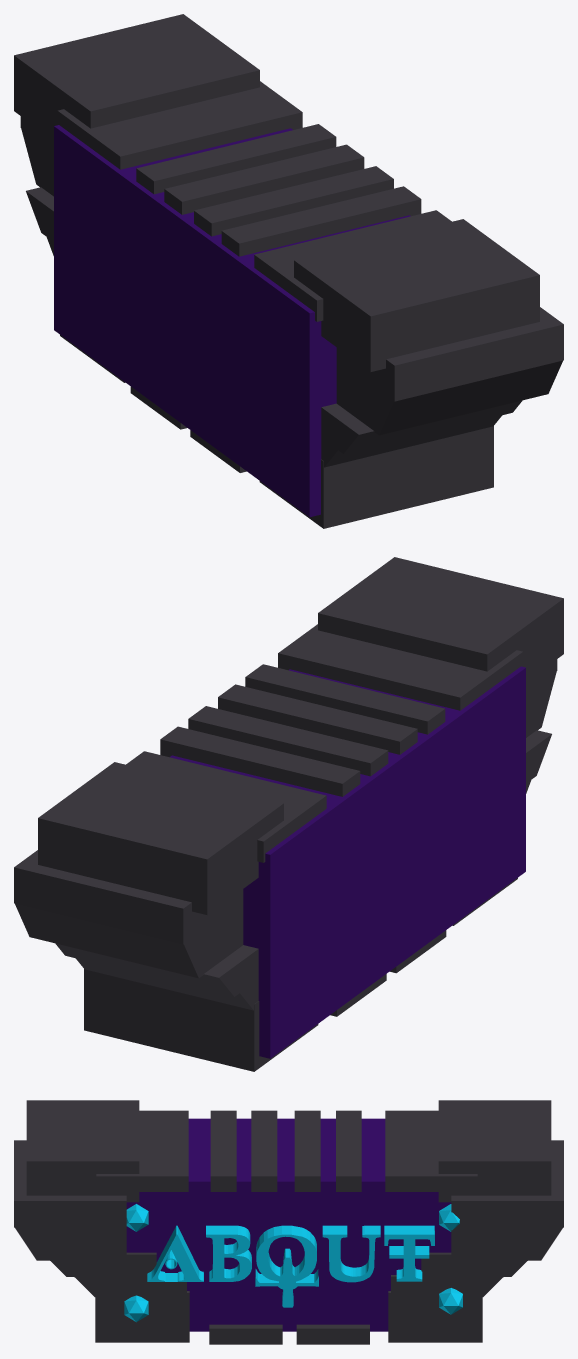
Rendered from About_Button.fbx.
The picture shows the model from 3 angles, top to bottom: view 1: azimuth 30°, elevation 25°; view 2: azimuth 150°, elevation 25°; view 3: azimuth 270°, elevation 25°; orthographic projection. The views are drawn at different scales.
Visible parts, largest first — view 1: Cube, Cube_7, Cube_15, Cube_14, Cube_2, Cube_8, Cube_9, Cube_3, Cube_5, Cube_6, Cube_4, Cube_1 (+4 smaller); view 2: Cube, Cube_15, Cube_7, Cube_20, Cube_1, Cube_16, Cube_17, Cube_6, Cube_4, Cube_5, Cube_3, Cube_2 (+4 smaller); view 3: Cube, Cube_15, Cube_7, Cap_1, Cube_2, Cube_1, Extrude, Cube_8, Cube_20, Cube_14, Cube_16, Cube_9 (+15 smaller).
Boxes of the visible parts, x1=… form: Cube: x1=54, y1=125, x2=410, y2=517; Cube_7: x1=294, y1=219, x2=539, y2=371; Cube_15: x1=14, y1=14, x2=259, y2=139; Cube_14: x1=259, y1=426, x2=493, y2=528; Cube_2: x1=57, y1=81, x2=302, y2=169; Cube_8: x1=336, y1=307, x2=563, y2=401; Cube_9: x1=336, y1=358, x2=562, y2=435; Cube_3: x1=221, y1=186, x2=421, y2=256; Cube_5: x1=164, y1=144, x2=364, y2=214; Cube_6: x1=136, y1=124, x2=336, y2=194; Cube_4: x1=194, y1=166, x2=393, y2=236; Cube_1: x1=254, y1=210, x2=451, y2=321; Cube: x1=170, y1=666, x2=525, y2=1058; Cube_15: x1=38, y1=762, x2=283, y2=914; Cube_7: x1=318, y1=557, x2=563, y2=681; Cube_20: x1=84, y1=969, x2=318, y2=1071; Cube_1: x1=278, y1=624, x2=523, y2=710; Cube_16: x1=14, y1=850, x2=243, y2=944; Cube_17: x1=15, y1=900, x2=243, y2=978; Cube_6: x1=160, y1=726, x2=360, y2=796; Cube_4: x1=218, y1=684, x2=417, y2=754; Cube_5: x1=188, y1=706, x2=388, y2=776; Cube_3: x1=245, y1=664, x2=445, y2=734; Cube_2: x1=126, y1=751, x2=326, y2=862; Cube: x1=126, y1=1118, x2=451, y2=1331; Cube_15: x1=438, y1=1100, x2=551, y2=1202; Cube_7: x1=26, y1=1100, x2=139, y2=1202; Cap_1: x1=147, y1=1234, x2=434, y2=1307; Cube_2: x1=385, y1=1110, x2=477, y2=1191; Cube_1: x1=96, y1=1110, x2=188, y2=1191; Extrude: x1=147, y1=1225, x2=434, y2=1304; Cube_8: x1=14, y1=1140, x2=126, y2=1227; Cube_20: x1=388, y1=1291, x2=482, y2=1342; Cube_14: x1=95, y1=1291, x2=189, y2=1342; Cube_16: x1=451, y1=1140, x2=563, y2=1227; Cube_9: x1=14, y1=1226, x2=126, y2=1260.
Bounding box in the file's own units: 160 × 186 × 512.
